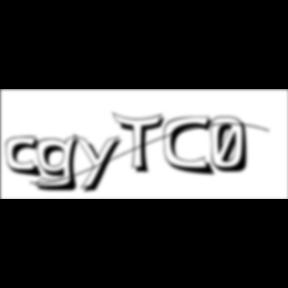0: (210, 115, 256, 174)
C: (163, 115, 218, 178)
T: (113, 112, 171, 176)
c: (6, 136, 46, 180)
g: (35, 134, 87, 194)
y: (73, 132, 127, 196)
